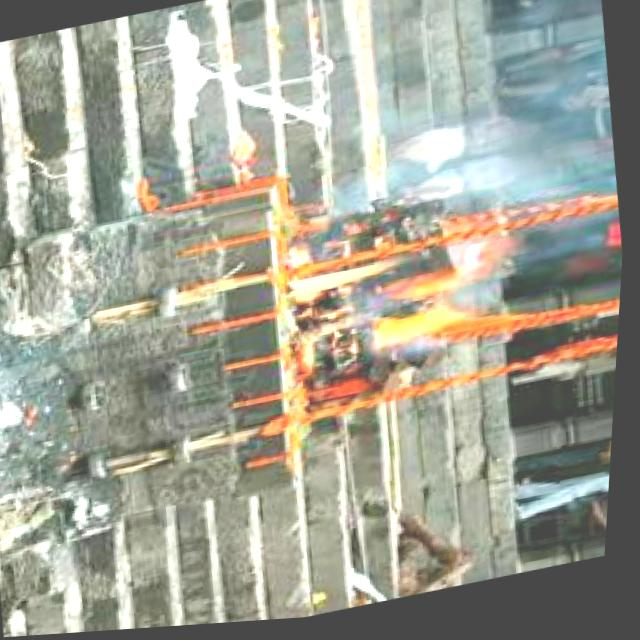Smoke: (276, 226, 499, 376)
